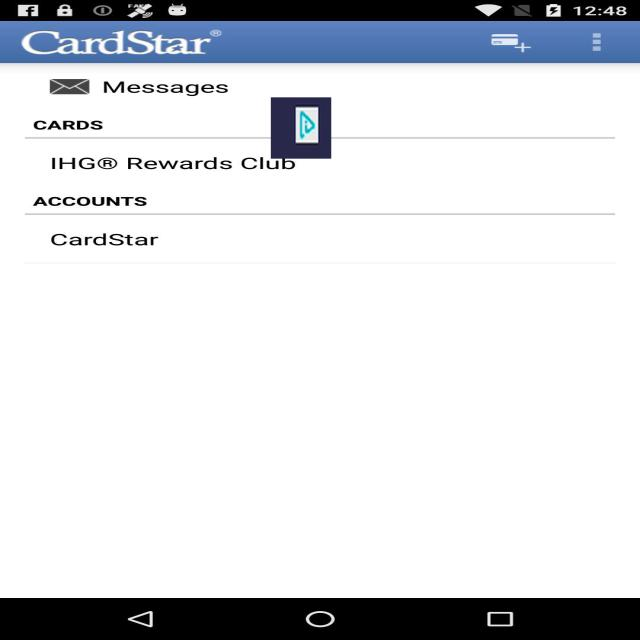sneaking: (271, 97, 331, 159)
